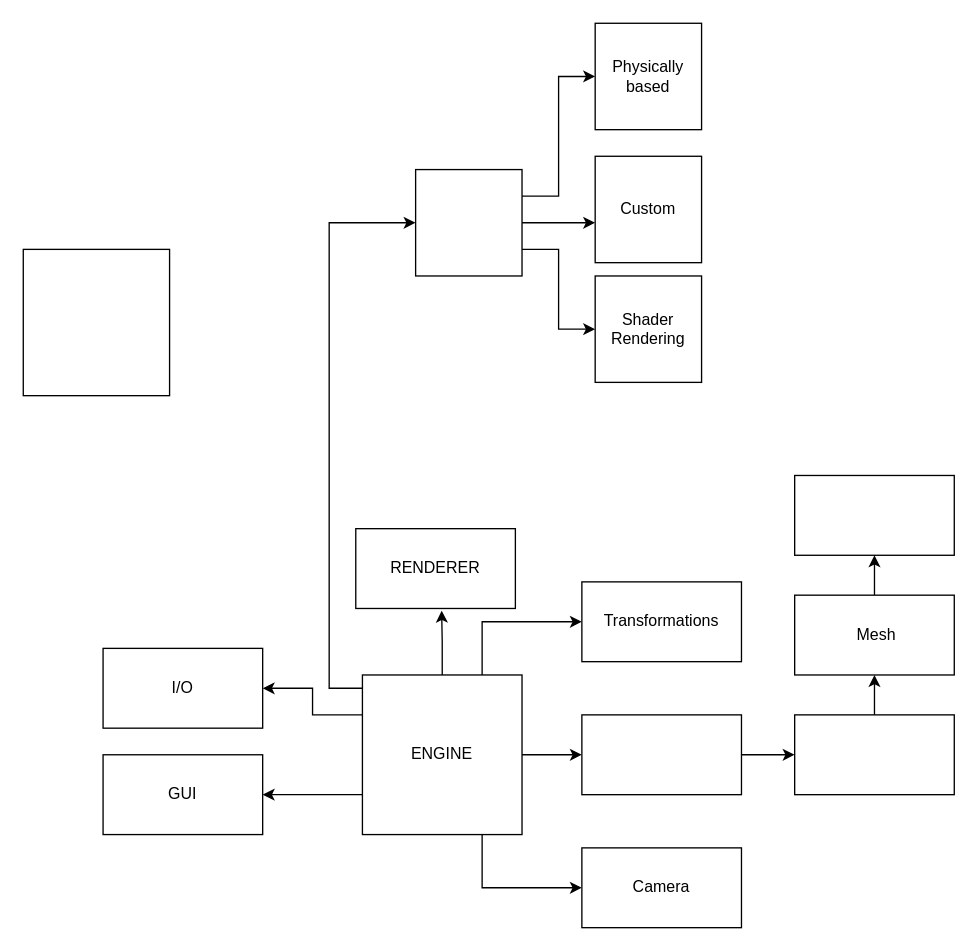
Some shapes in this 978 by 951 pixel diagram are drawn without their labels. Here are the shapes that lost their labels. From the top down, the centre of each, then its label:
At point (468, 222): "Config Class To change the configurations of the entire engine".
At point (96, 322): "Default class behavior onCreate() onUpdate() onDestroy()".
At point (873, 514): "Shader".
At point (661, 754): "Scene".
At point (873, 754): "Model".
